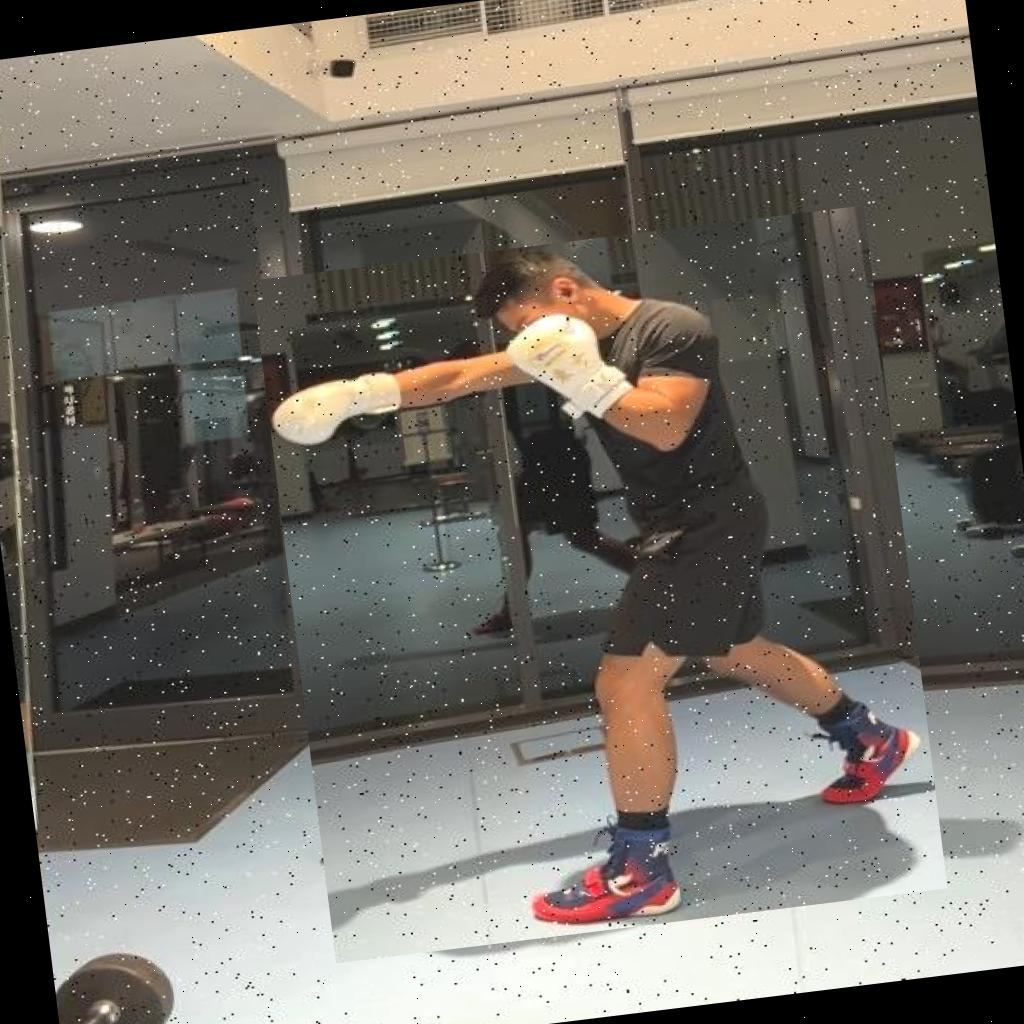cross: (252, 205, 948, 963)
